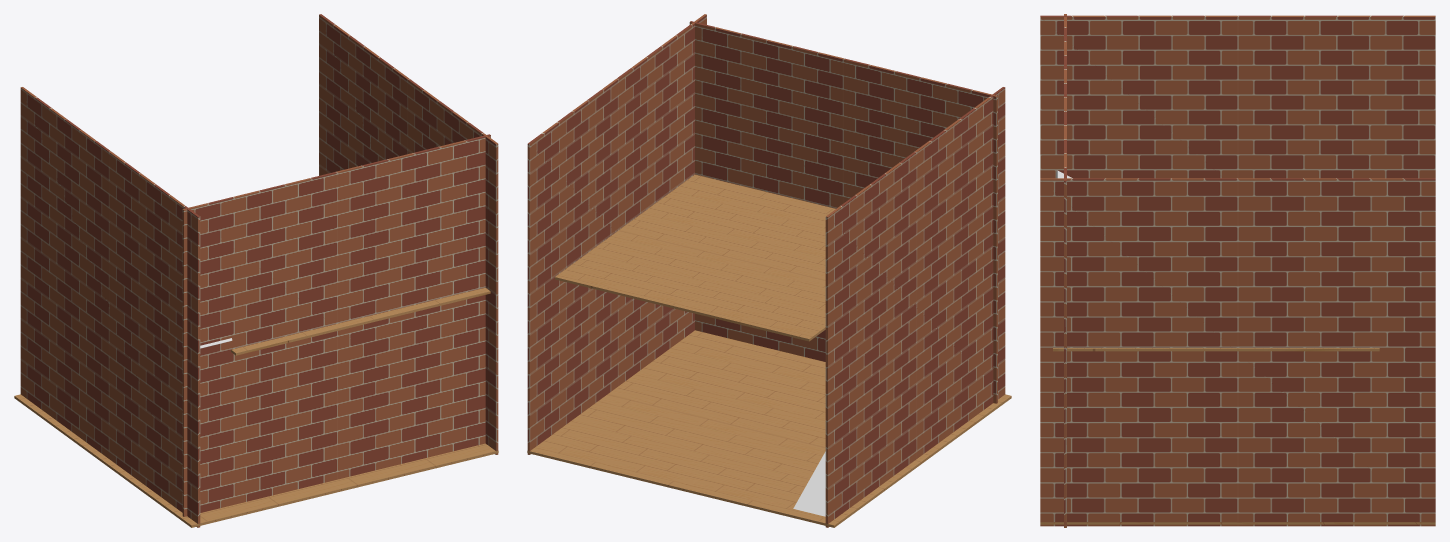
The model's file is gimmick2.fbx.
3 views of the same model, side by side, from view 1: azimuth 30°, elevation 25°; view 2: azimuth 150°, elevation 25°; view 3: azimuth 270°, elevation 25° (orthographic). The views are drawn at different scales.
Visible parts, largest first — view 1: wall_3, wall_2, wall_1, floor, wall_4; view 2: wall_2, wall_1, wall_3, floor, wall_4, wall_5; view 3: wall_1, wall_2, wall_3, wall_4, floor.
Boxes of the visible parts, x1=… form: wall_3: x1=182, y1=134, x2=490, y2=516; wall_2: x1=20, y1=87, x2=200, y2=527; wall_1: x1=319, y1=14, x2=498, y2=454; floor: x1=14, y1=394, x2=498, y2=527; wall_4: x1=231, y1=287, x2=490, y2=355; wall_2: x1=825, y1=87, x2=1005, y2=527; wall_1: x1=527, y1=14, x2=706, y2=454; wall_3: x1=689, y1=21, x2=997, y2=403; floor: x1=527, y1=330, x2=1011, y2=527; wall_4: x1=555, y1=174, x2=835, y2=341; wall_5: x1=793, y1=451, x2=825, y2=516; wall_1: x1=1040, y1=178, x2=1435, y2=526; wall_2: x1=1040, y1=15, x2=1435, y2=178; wall_3: x1=1064, y1=14, x2=1066, y2=527; wall_4: x1=1053, y1=348, x2=1379, y2=351; floor: x1=1040, y1=522, x2=1435, y2=524.
Size of the model in its own units: 3130 by 3100 by 3000.
